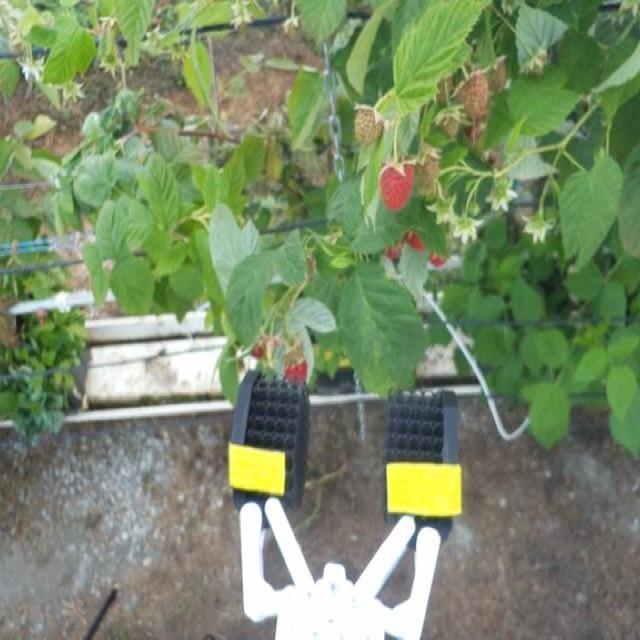Riped berries: (376, 157, 415, 212), (282, 350, 315, 388), (403, 220, 429, 253)
